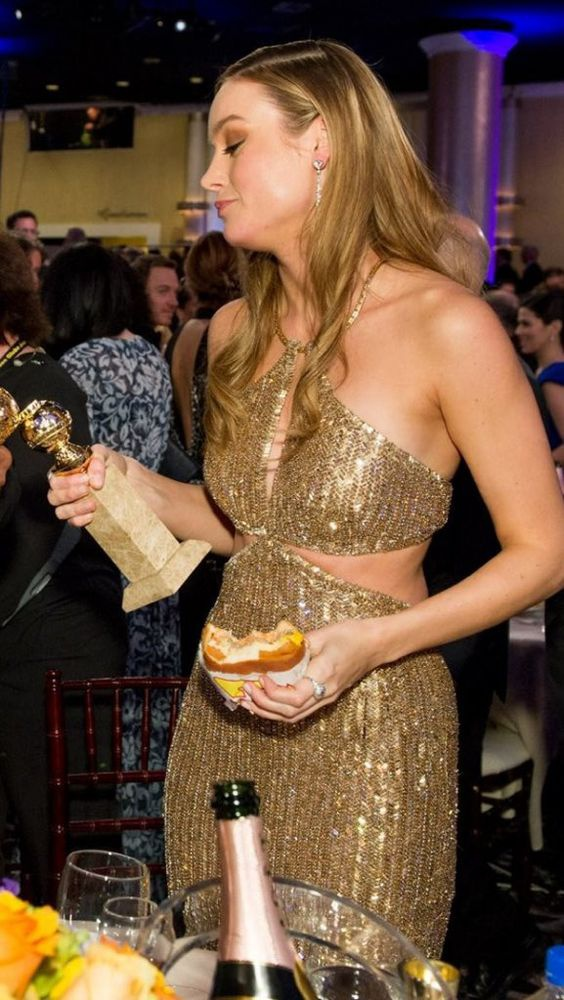hand: (243, 635, 380, 714)
